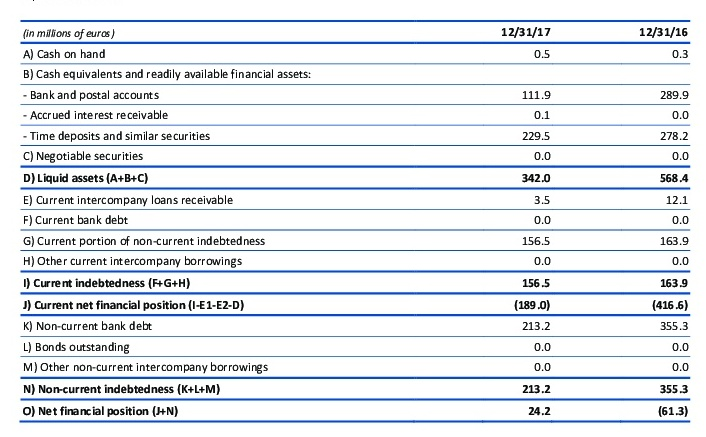table: (0, 0, 706, 437)
